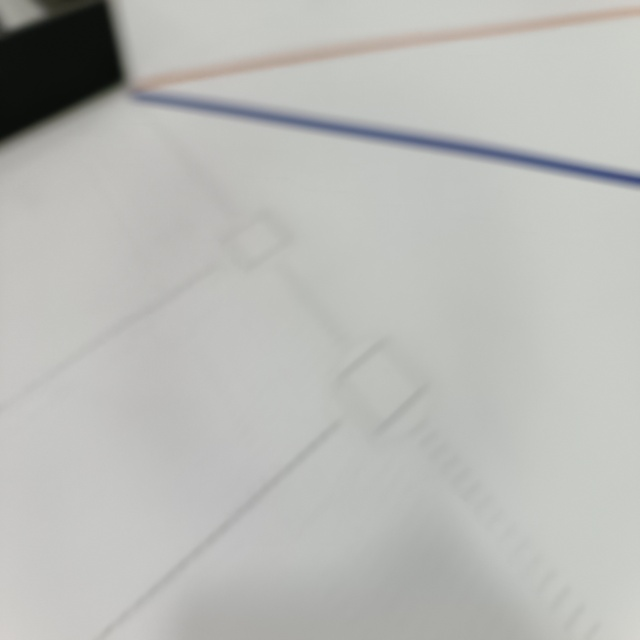blue line: (119, 91, 640, 182)
orange line: (134, 0, 640, 94)
